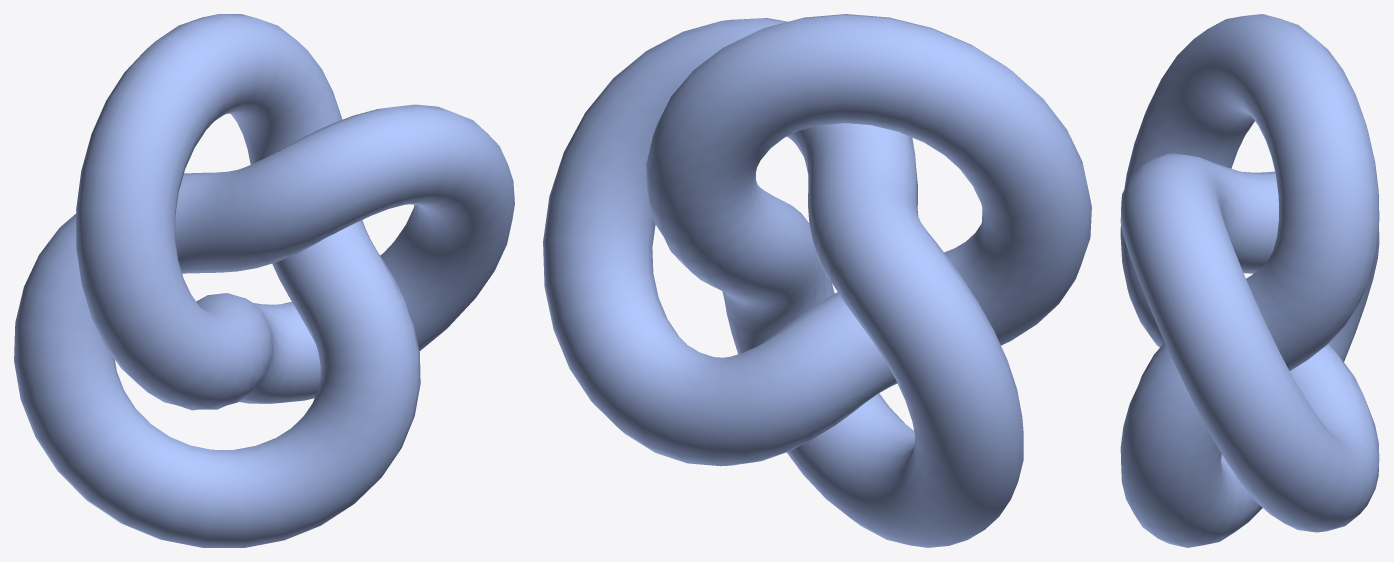
The model's file is demo-shape.glb.
3 views of the same model, side by side, from view 1: azimuth 30°, elevation 25°; view 2: azimuth 150°, elevation 25°; view 3: azimuth 270°, elevation 25° (orthographic). The views are drawn at different scales.
Parts seen in each view (by area): view 1: DemoShape; view 2: DemoShape; view 3: DemoShape.
Boxes of the visible parts, x1,y1,x2,y2 form: DemoShape: [14, 14, 514, 547]; DemoShape: [543, 14, 1091, 547]; DemoShape: [1120, 14, 1379, 547].
Size of the model in its own units: 3.32 by 3.46 by 1.63.
